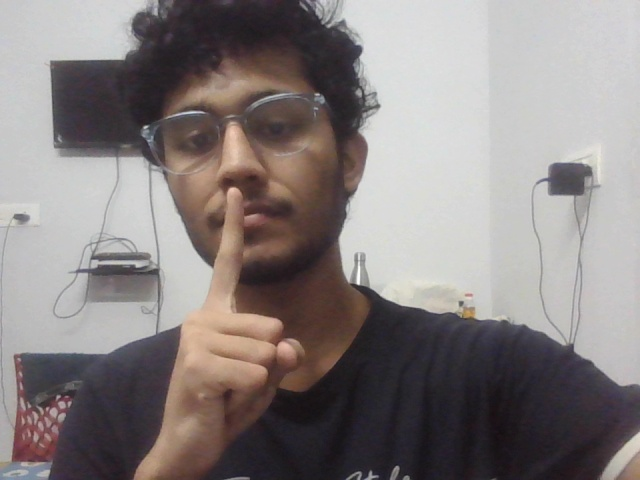Quiet: (140, 178, 330, 479)
